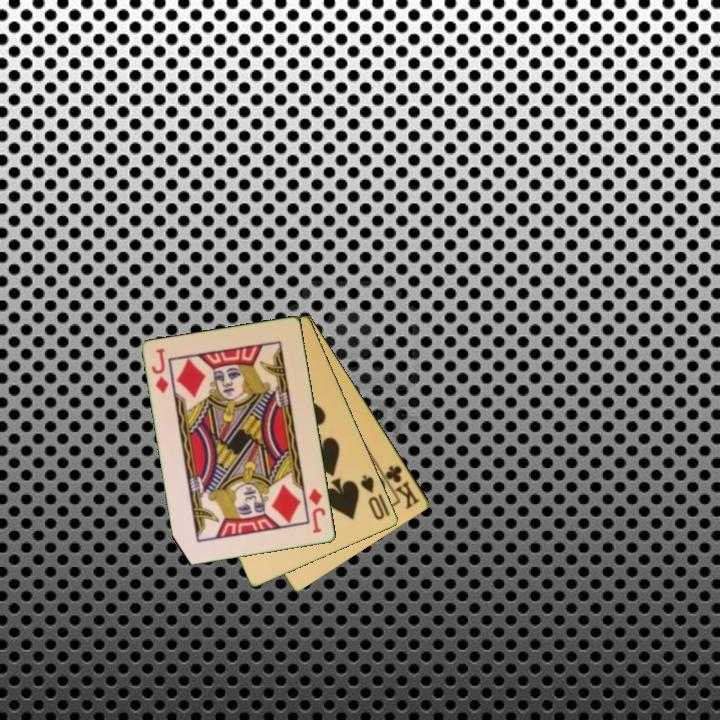10s: (357, 471, 388, 523)
Jd: (305, 484, 329, 536), (148, 345, 172, 397)
Kc: (377, 462, 423, 512)
